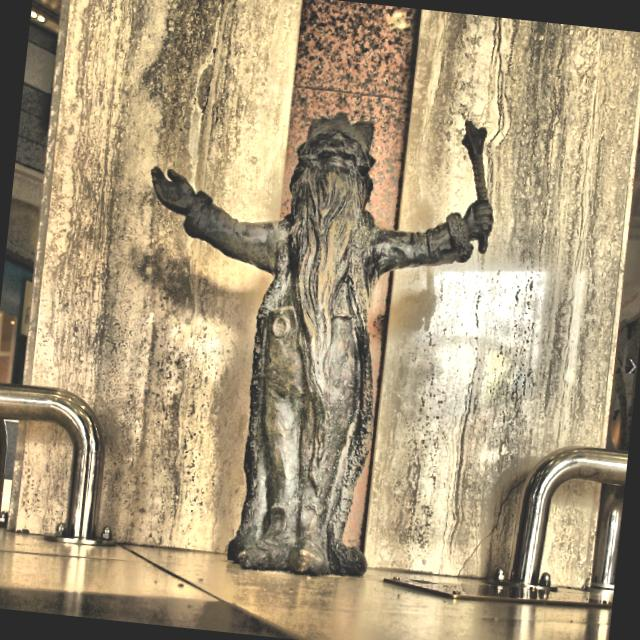Serdecznis: (151, 113, 493, 575)
